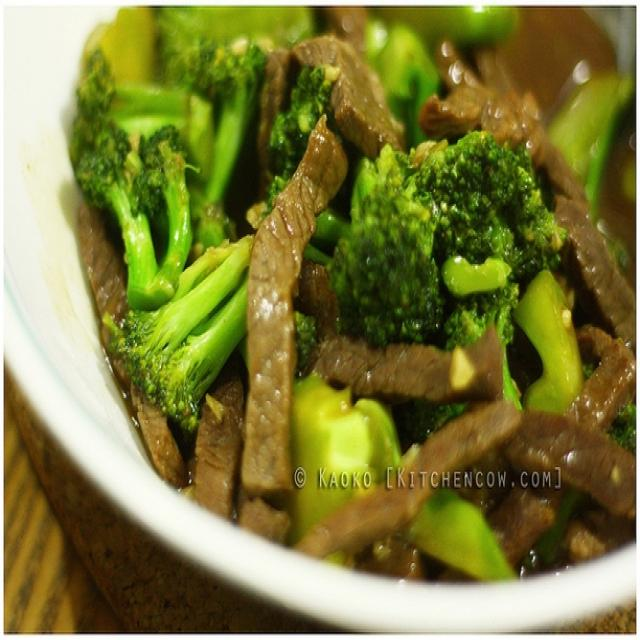牛肉菜式: (25, 24, 634, 599)
